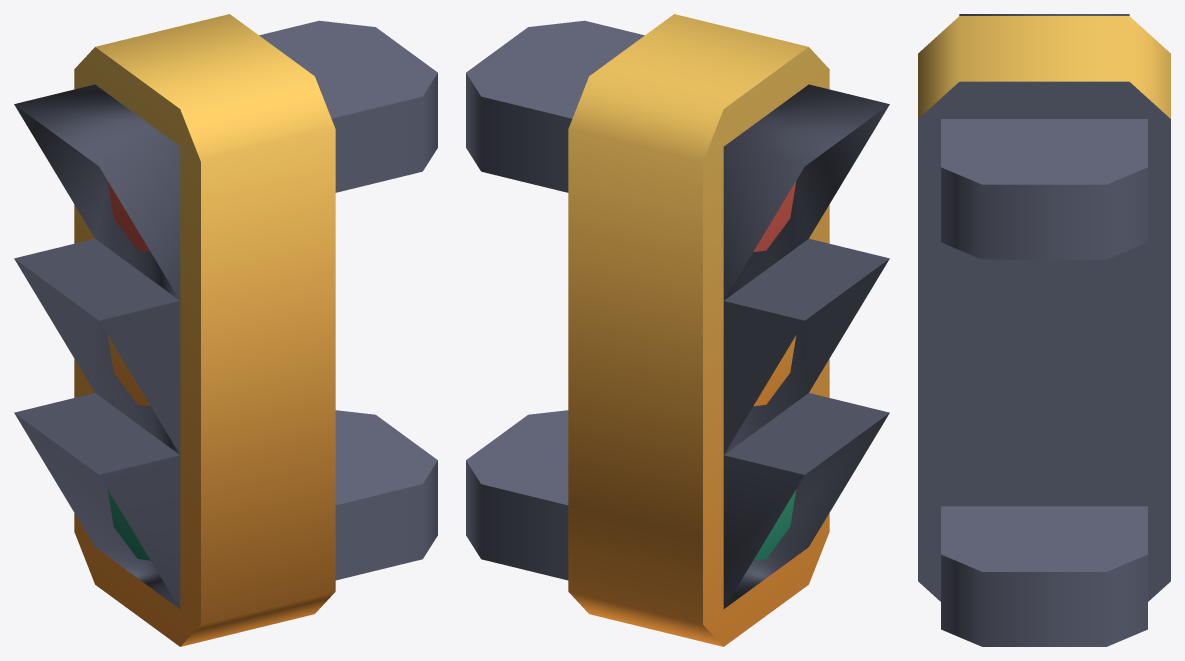
File: traffic-light-object-vertical.glb
3 renders of one model, left to right at view 1: azimuth 30°, elevation 25°; view 2: azimuth 150°, elevation 25°; view 3: azimuth 270°, elevation 25°, orthographic.
Visible parts, largest first — view 1: traffic-light-object-vertical; view 2: traffic-light-object-vertical; view 3: traffic-light-object-vertical.
Boxes of the visible parts, x1,y1,x2,y2 form: traffic-light-object-vertical: [14, 14, 437, 646]; traffic-light-object-vertical: [466, 14, 889, 646]; traffic-light-object-vertical: [918, 14, 1170, 646].
Bounding box in the file's own units: 0.0976 × 0.1432 × 0.0611.
1 material, 1 textured.
